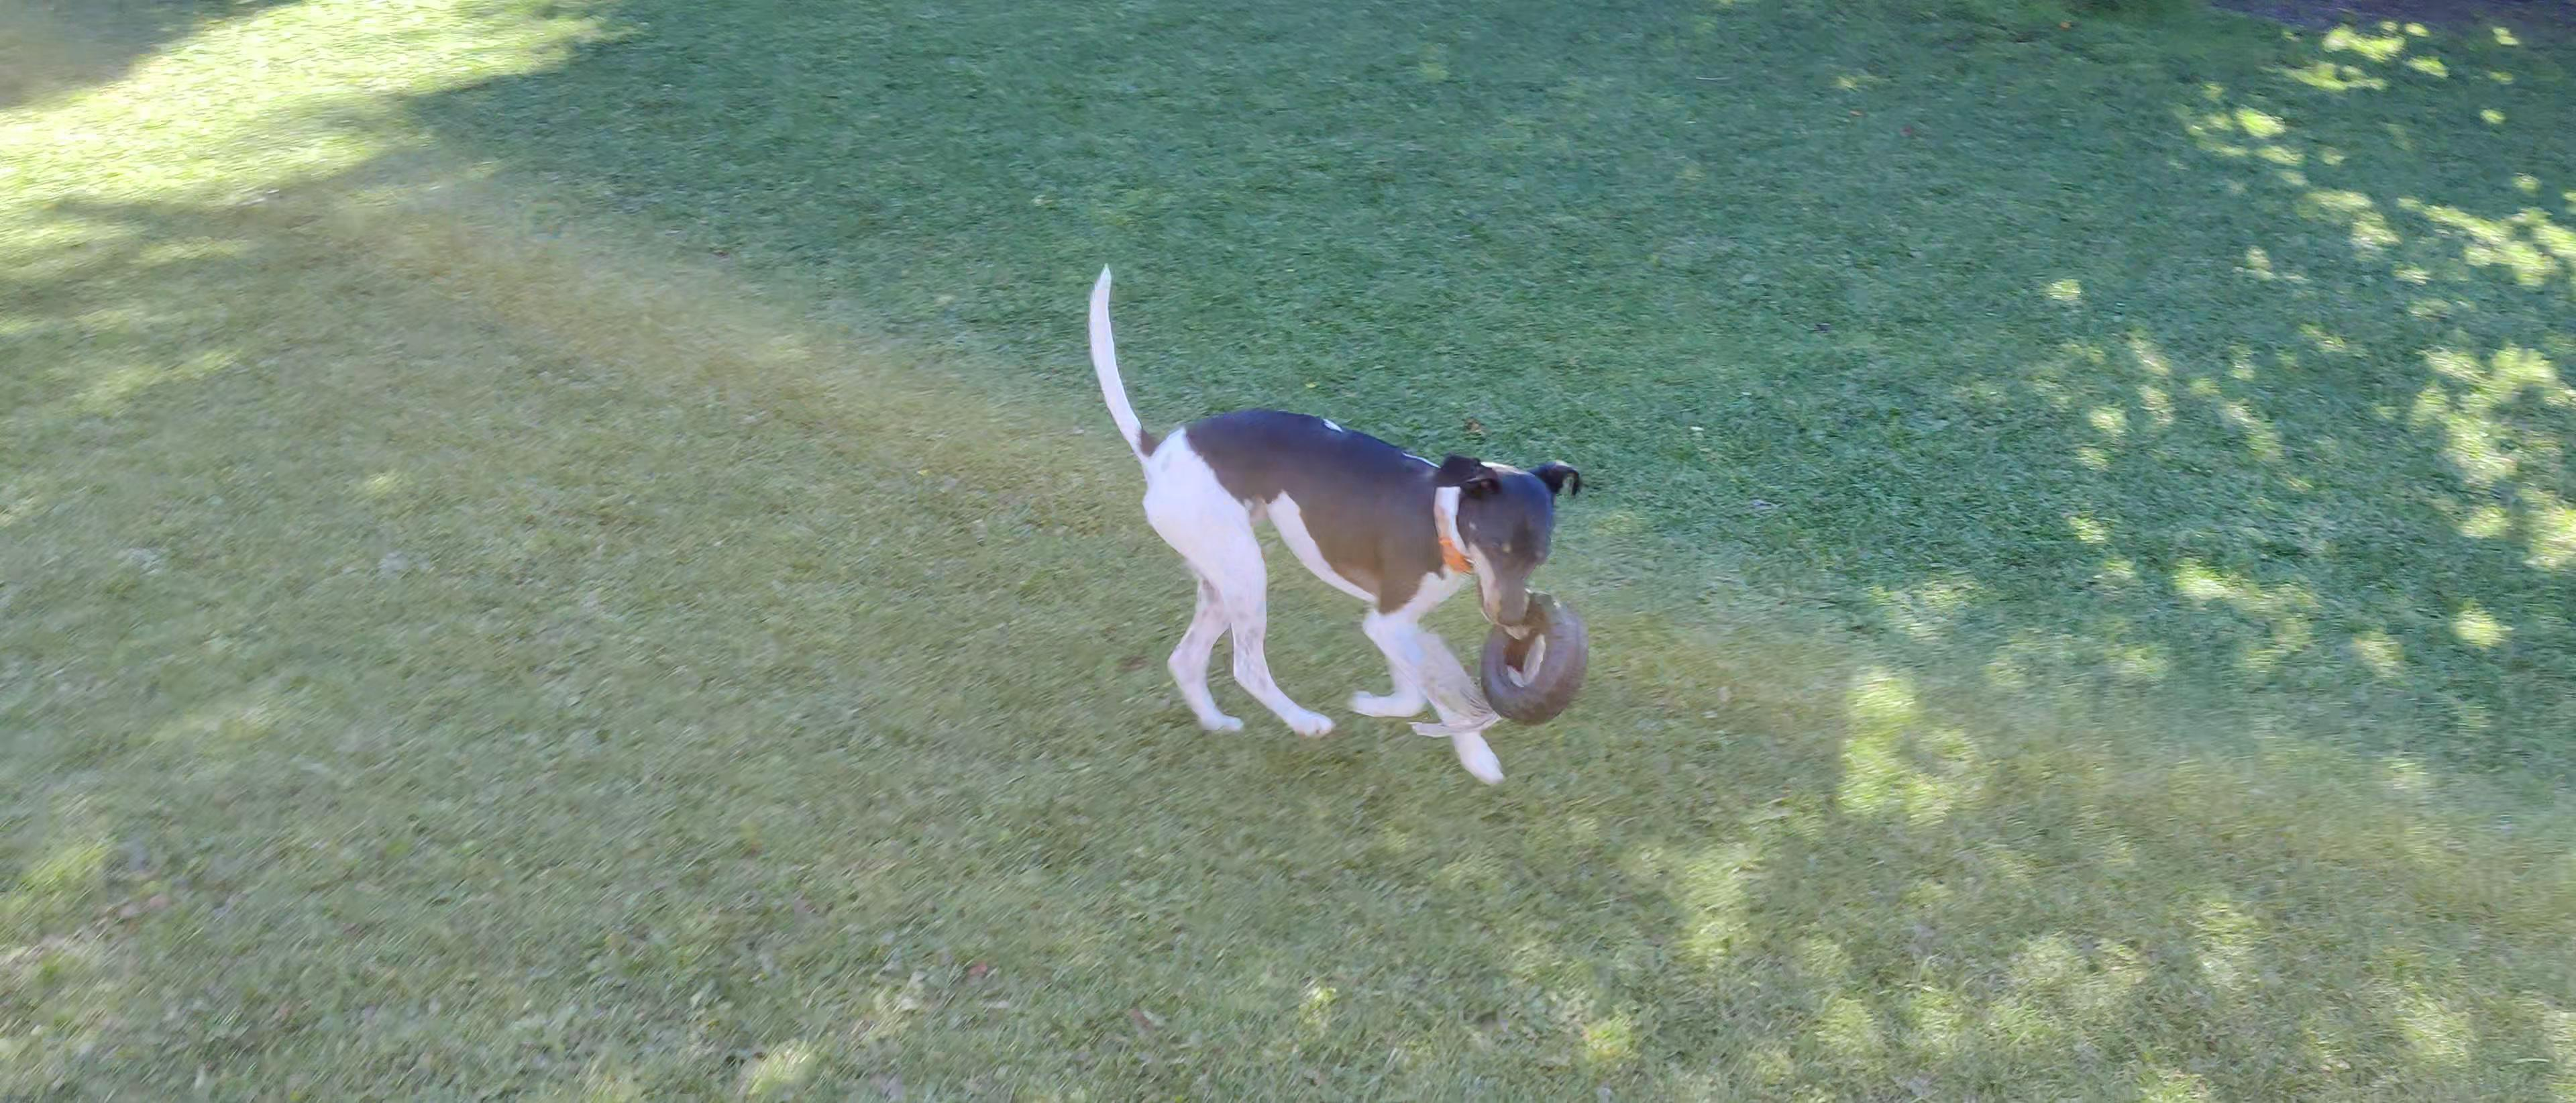Dog: (1079, 250, 1589, 792)
